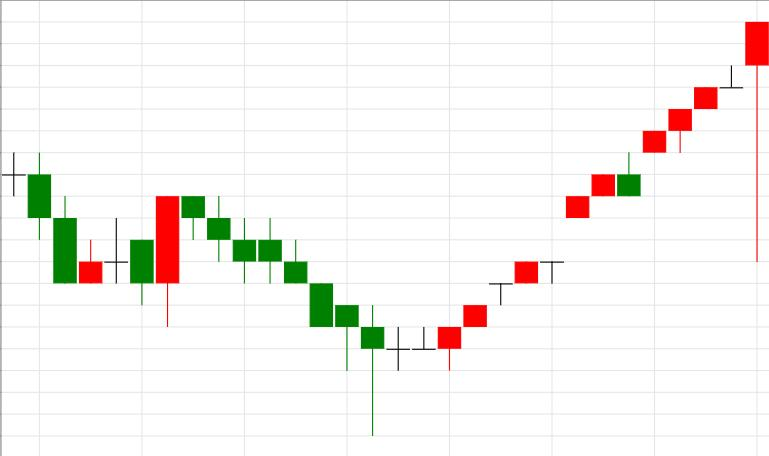bullish_engulfing_rise: (2, 152, 179, 328)
hanging_man_fall: (437, 23, 768, 370)
